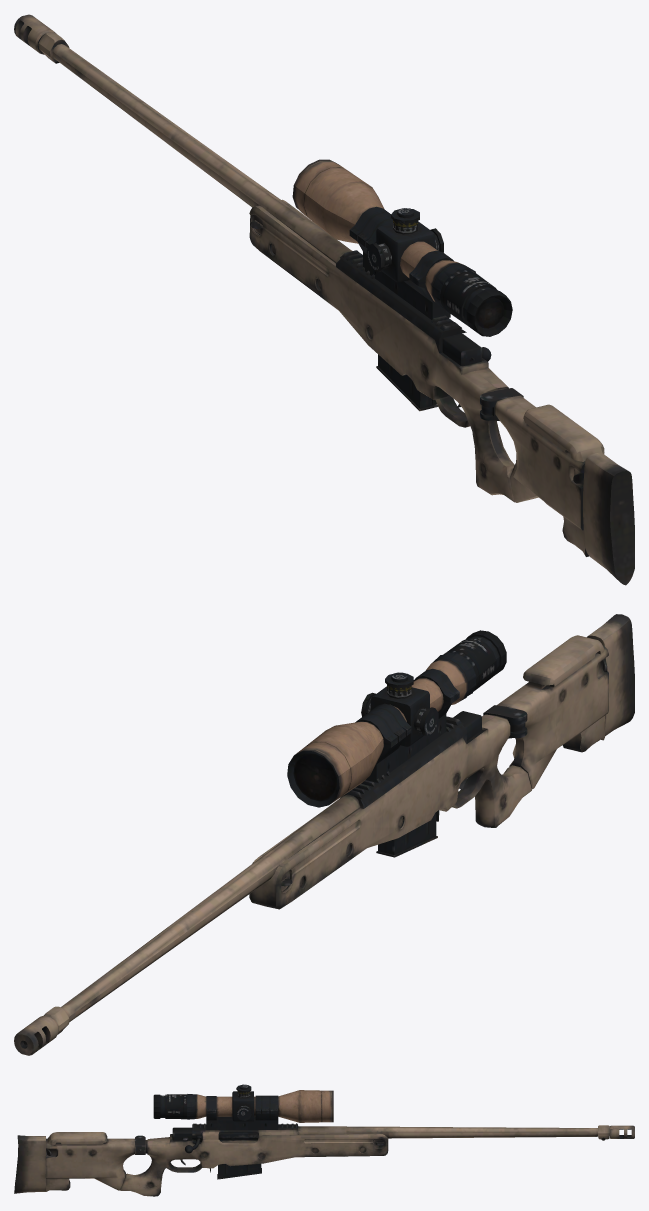
3 renders of one model, top to bottom at view 1: azimuth 30°, elevation 25°; view 2: azimuth 150°, elevation 25°; view 3: azimuth 270°, elevation 25°, orthographic. The views are drawn at different scales.
Parts seen in each view (by area): view 1: Main_Body, Scope; view 2: Main_Body, Scope; view 3: Main_Body, Scope.
Boxes of the visible parts, x1=… form: Main_Body: x1=14, y1=14, x2=634, y2=585; Scope: x1=292, y1=159, x2=512, y2=336; Main_Body: x1=14, y1=614, x2=634, y2=1055; Scope: x1=287, y1=630, x2=506, y2=807; Main_Body: x1=14, y1=1123, x2=634, y2=1196; Scope: x1=153, y1=1084, x2=333, y2=1129.
Bounding box in the file's own units: 7.24 × 23.15 × 120.
2 materials, 2 textured.
